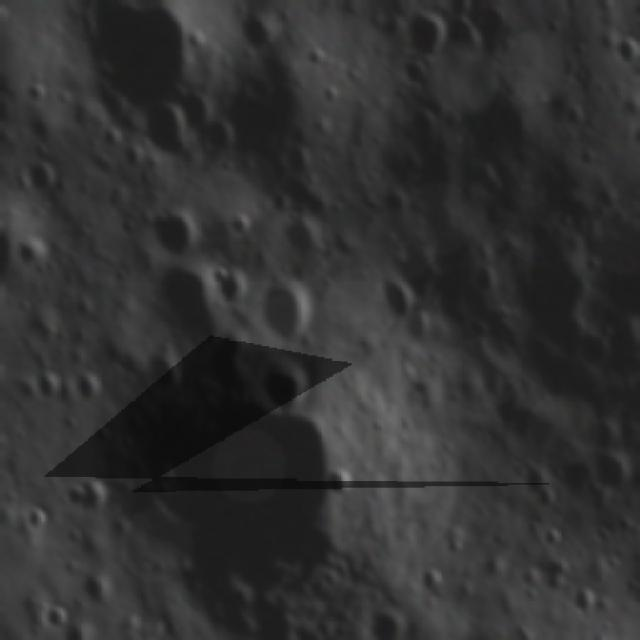crater: (141, 405, 342, 598), (69, 0, 190, 112), (142, 252, 228, 351), (246, 273, 311, 347), (137, 193, 200, 267), (138, 99, 198, 168), (400, 0, 448, 66), (260, 355, 311, 417), (362, 273, 420, 327), (569, 326, 617, 376), (70, 468, 112, 523), (68, 561, 112, 613), (20, 145, 62, 198), (413, 556, 459, 604), (17, 359, 60, 410), (590, 447, 632, 498), (365, 597, 413, 640), (16, 488, 58, 537), (561, 582, 605, 626), (76, 366, 105, 405), (62, 617, 92, 640), (638, 75, 640, 142)
